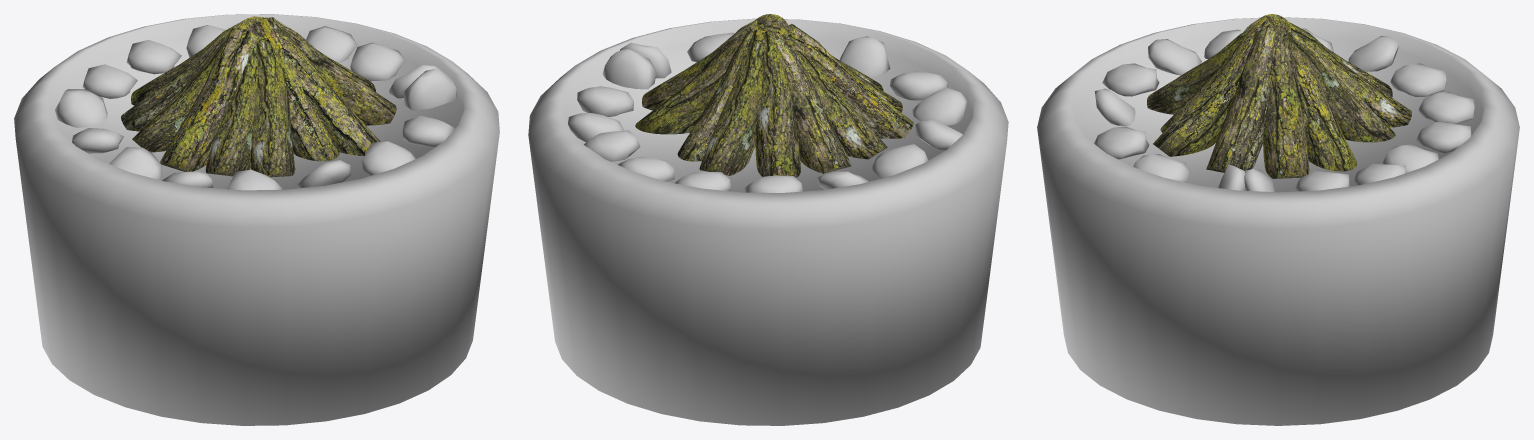
File: Campfire.fbx
3 views of the same model, side by side, from view 1: azimuth 30°, elevation 25°; view 2: azimuth 150°, elevation 25°; view 3: azimuth 270°, elevation 25° (orthographic).
Parts seen in each view (by area): view 1: Campfire; view 2: Campfire; view 3: Campfire.
Part boxes in pixels (x1=…): Campfire: x1=14, y1=14, x2=499, y2=425; Campfire: x1=528, y1=14, x2=1008, y2=425; Campfire: x1=1037, y1=14, x2=1519, y2=425.
Bounding box in the file's own units: 137 × 99.45 × 137.
